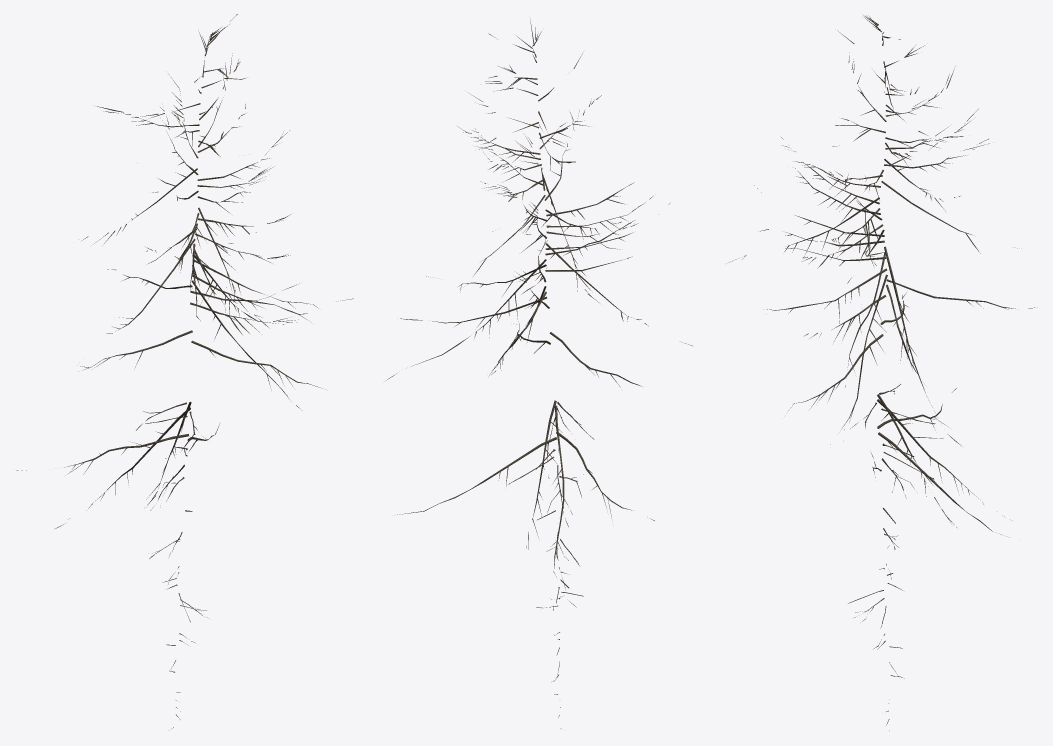
File: fir_c.glb
3 renders of one model, left to right at view 1: azimuth 30°, elevation 25°; view 2: azimuth 150°, elevation 25°; view 3: azimuth 270°, elevation 25°, orthographic. The views are drawn at different scales.
Visible parts, largest first — view 1: lod0; view 2: lod0; view 3: lod0.
Part boxes in pixels (box(x1,y1,x2,y2)): lod0: box(16, 14, 353, 728); lod0: box(386, 18, 692, 728); lod0: box(728, 15, 1037, 730).
Size of what is drawn, in the model's own units: 5.02 by 11.82 by 4.57.
1 material, 1 textured.
